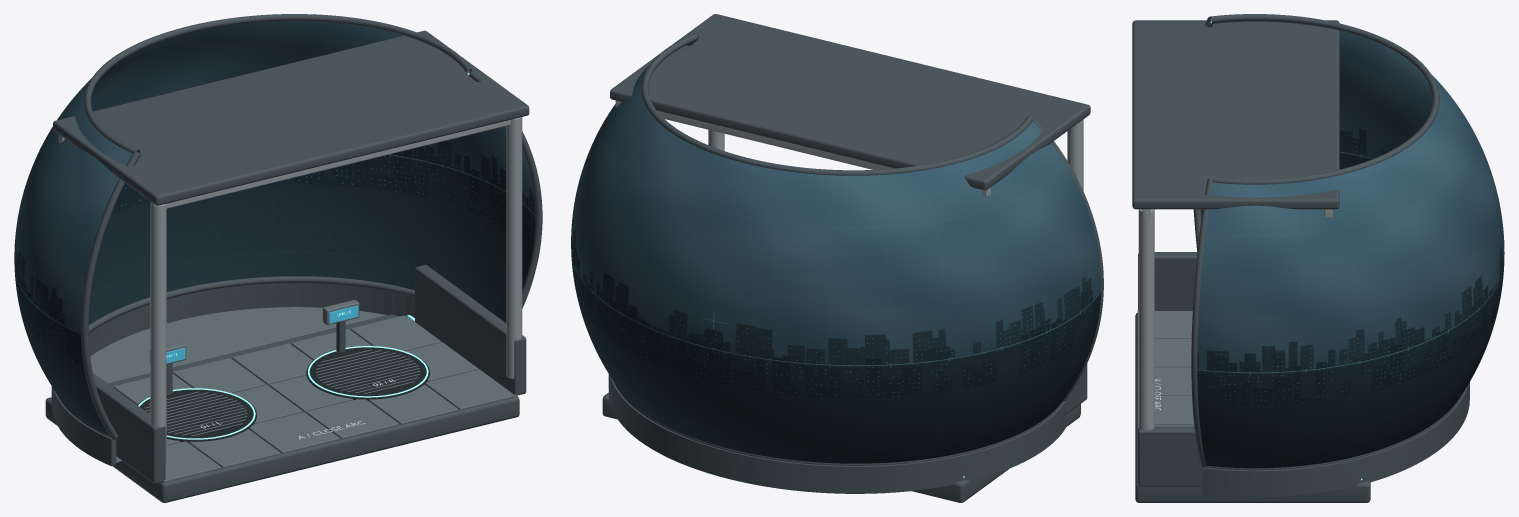
Rendered from Anseong_Cockpit_A_CloseArc.fbx.
The picture shows the model from 3 angles, left to right: view 1: azimuth 30°, elevation 25°; view 2: azimuth 150°, elevation 25°; view 3: azimuth 270°, elevation 25°; orthographic projection.
Visible parts, largest first — view 1: 10_Display, 01_Deck, 08_Ceiling_Removable, 09_Hull, 03_Station_R, 02_Station_L, 05_Console_R, 04_Console_L; view 2: 10_Display, 08_Ceiling_Removable, 01_Deck, 09_Hull; view 3: 10_Display, 08_Ceiling_Removable, 01_Deck, 09_Hull.
Part boxes in pixels (box(x1,y1,x2,y2)): 10_Display: box(14, 14, 542, 439); 01_Deck: box(45, 283, 519, 502); 08_Ceiling_Removable: box(53, 30, 529, 211); 09_Hull: box(93, 117, 526, 483); 03_Station_R: box(306, 346, 429, 400); 02_Station_L: box(137, 388, 256, 442); 05_Console_R: box(322, 300, 359, 353); 04_Console_L: box(149, 342, 186, 395); 10_Display: box(571, 33, 1103, 465); 08_Ceiling_Removable: box(610, 14, 1090, 197); 01_Deck: box(602, 374, 1080, 502); 09_Hull: box(708, 122, 1087, 448); 10_Display: box(1191, 14, 1504, 470); 08_Ceiling_Removable: box(1132, 20, 1339, 217); 01_Deck: box(1135, 310, 1469, 502); 09_Hull: box(1138, 209, 1337, 486).
Size of the model in its own units: 5.72 by 3.76 by 3.95.
